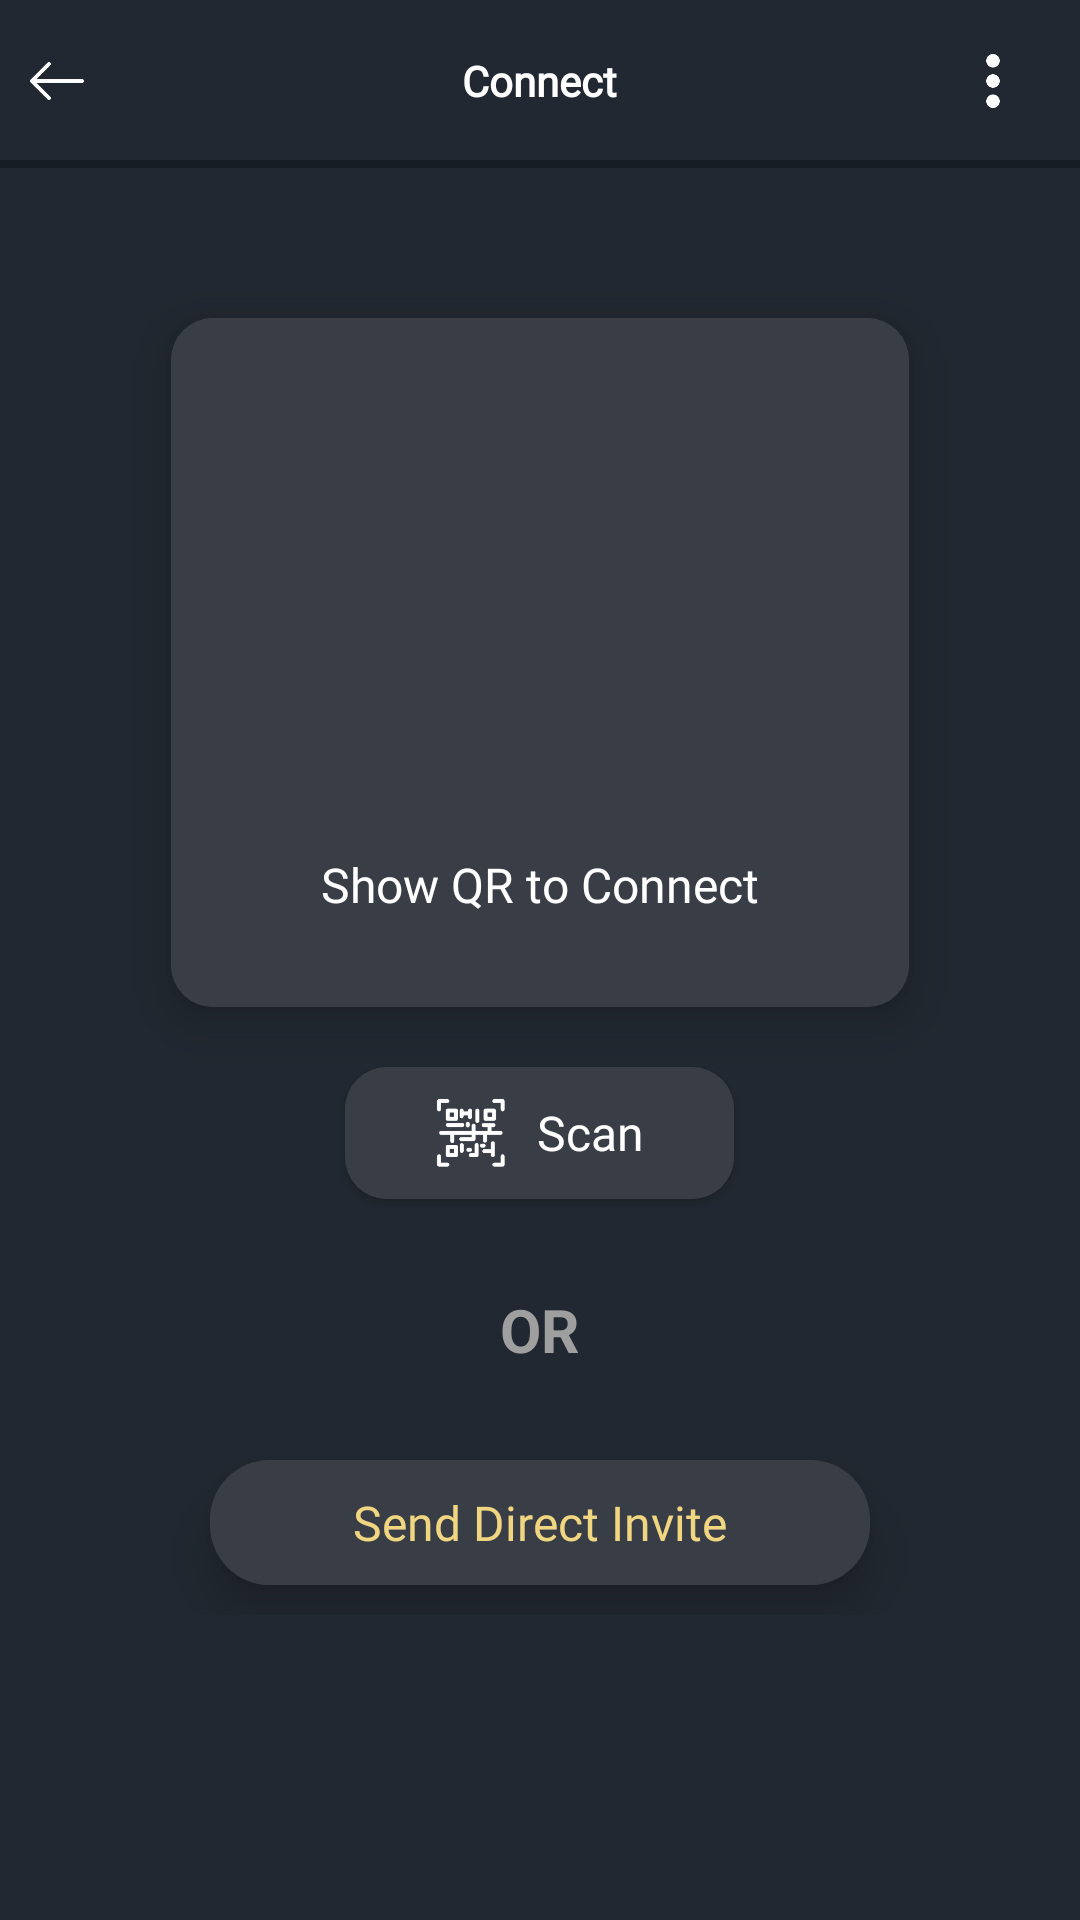

Point at icon controls on the screen. Image size 1080px x 1920px, points as (x=x, y=y).
back: (x=57, y=81)
menu: (x=993, y=81)
